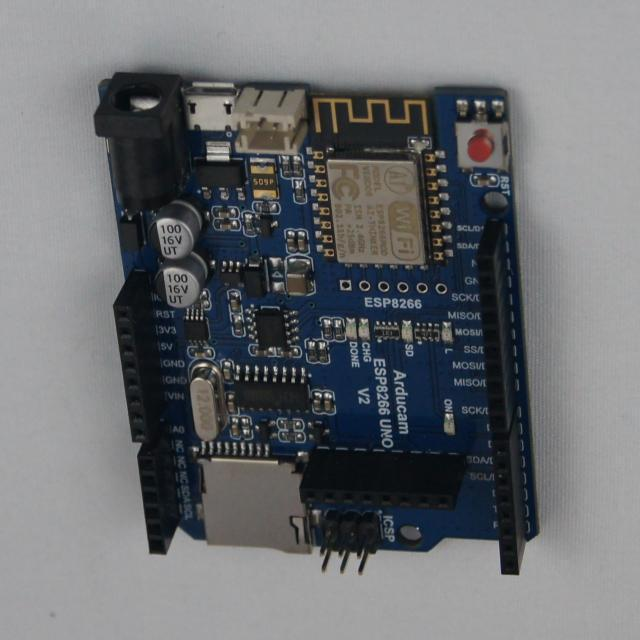Arduino Uno Camera Shield: (95, 73, 538, 574)
